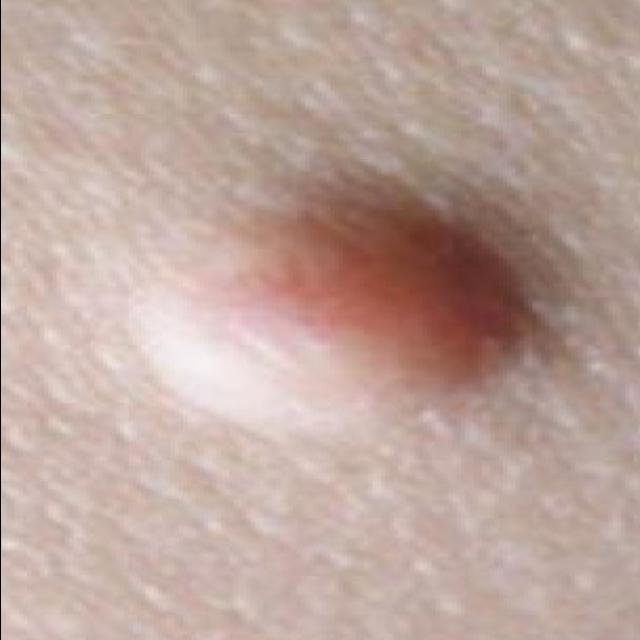nodule: (83, 151, 537, 499)
